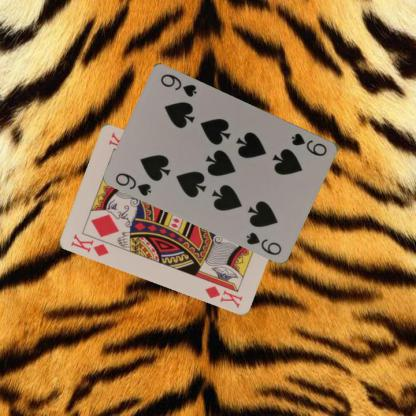9s: (288, 130, 329, 158), (113, 170, 153, 197)
Kd: (69, 231, 110, 258)
